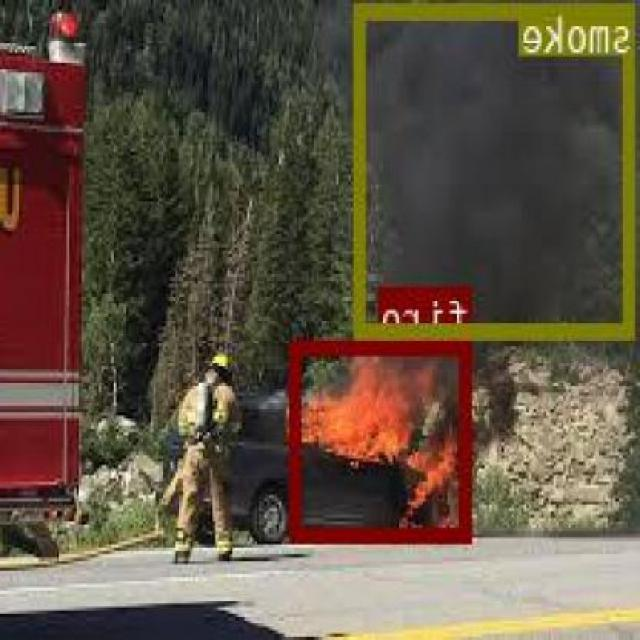Fire: (278, 335, 460, 567)
Smoke: (335, 24, 633, 348)
